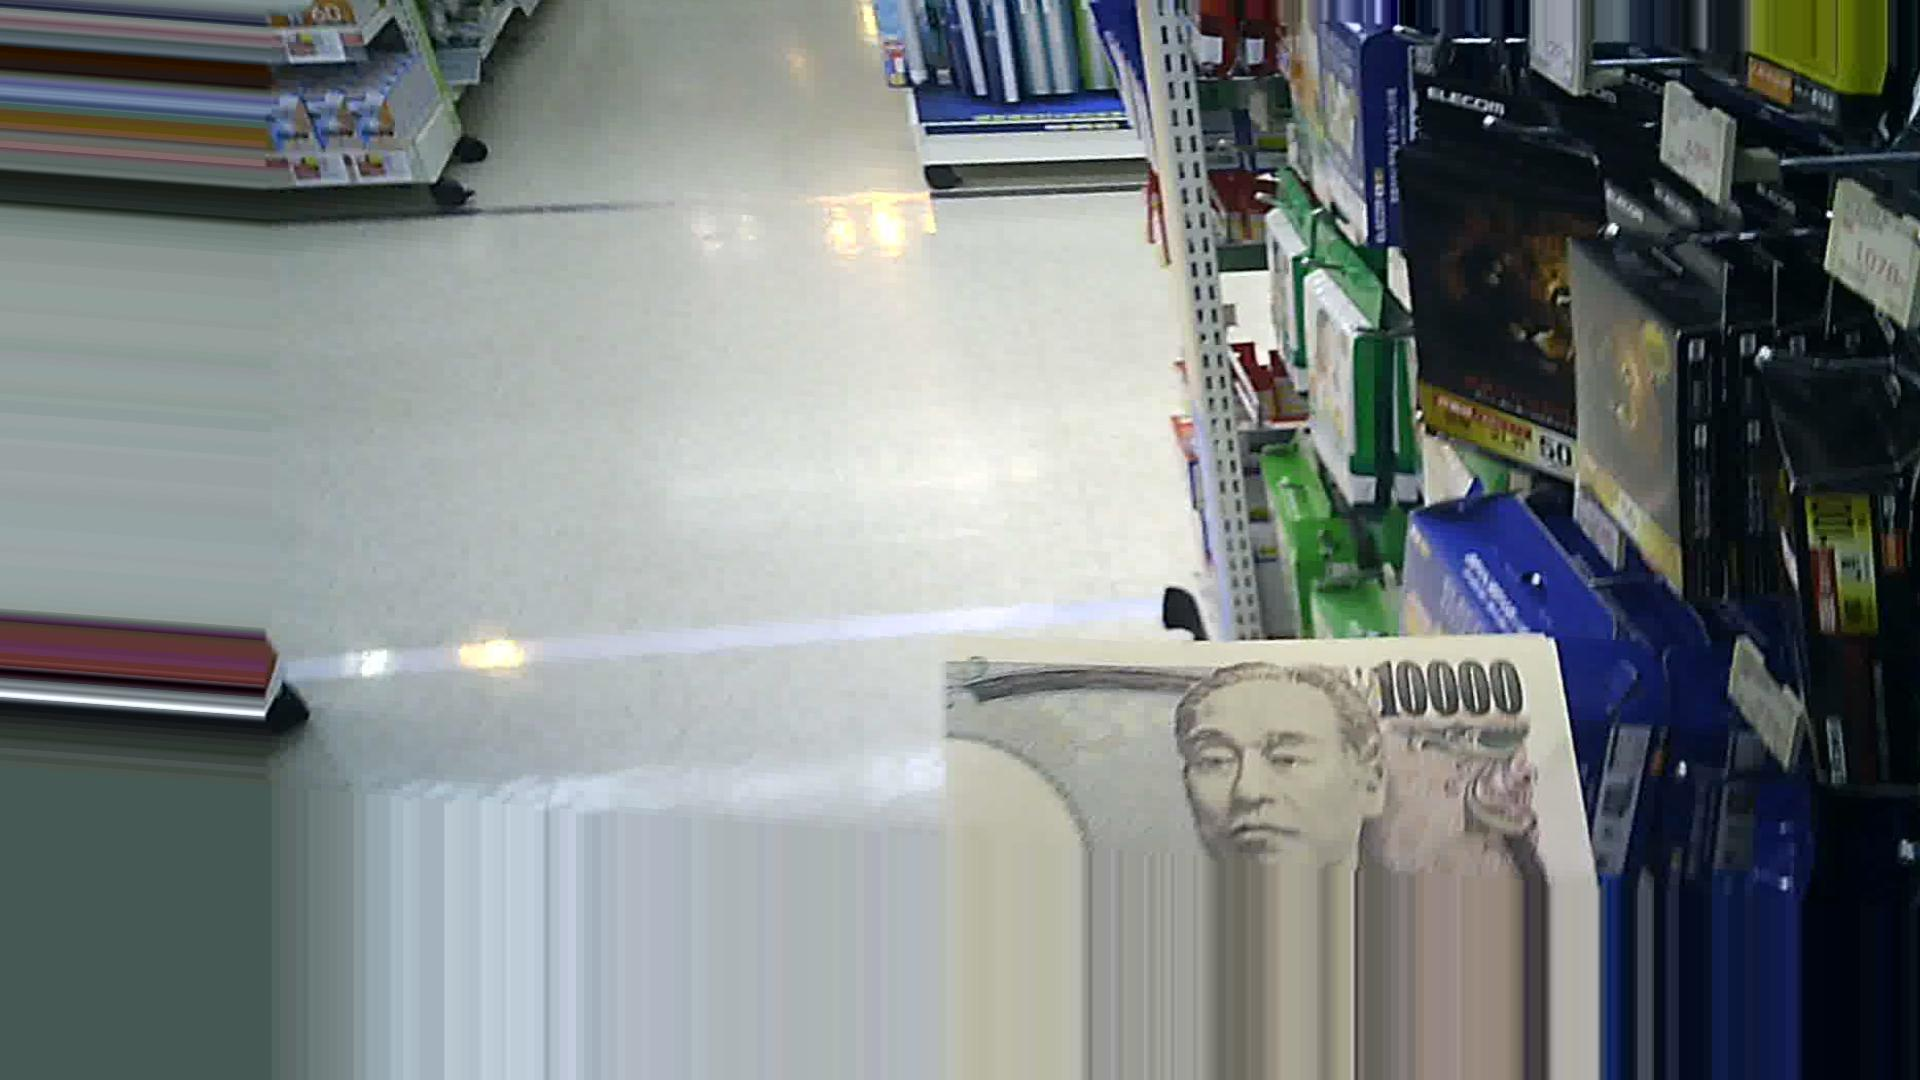10,000 Yen: (928, 603, 1644, 878)
